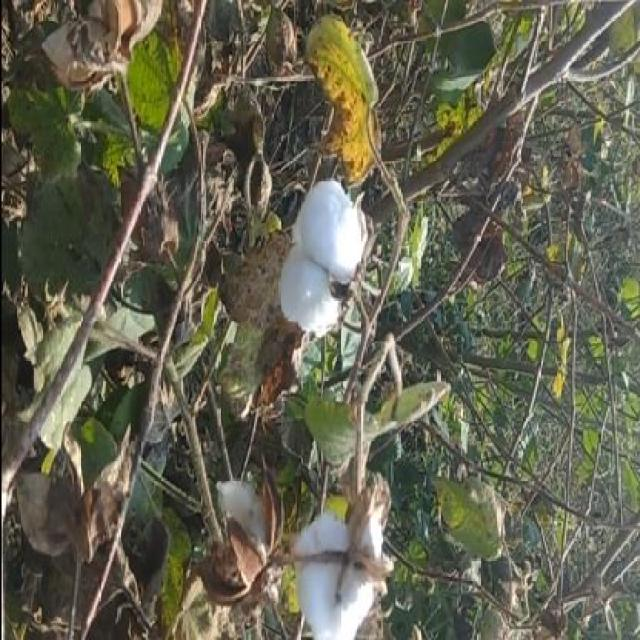cotton_ready: (269, 166, 365, 371), (284, 500, 402, 638)
